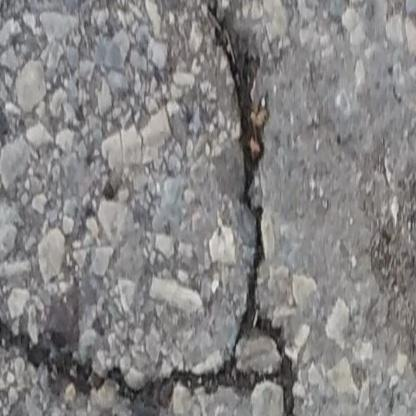Cracks: (0, 0, 301, 416)
